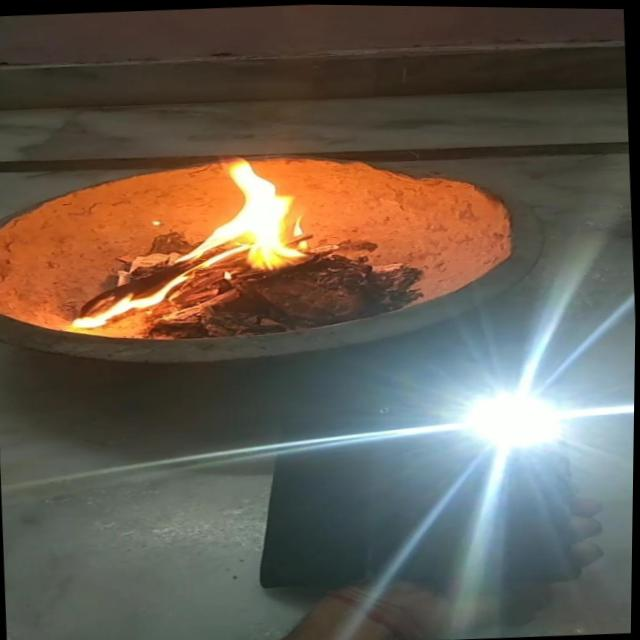fire: (61, 148, 322, 333)
